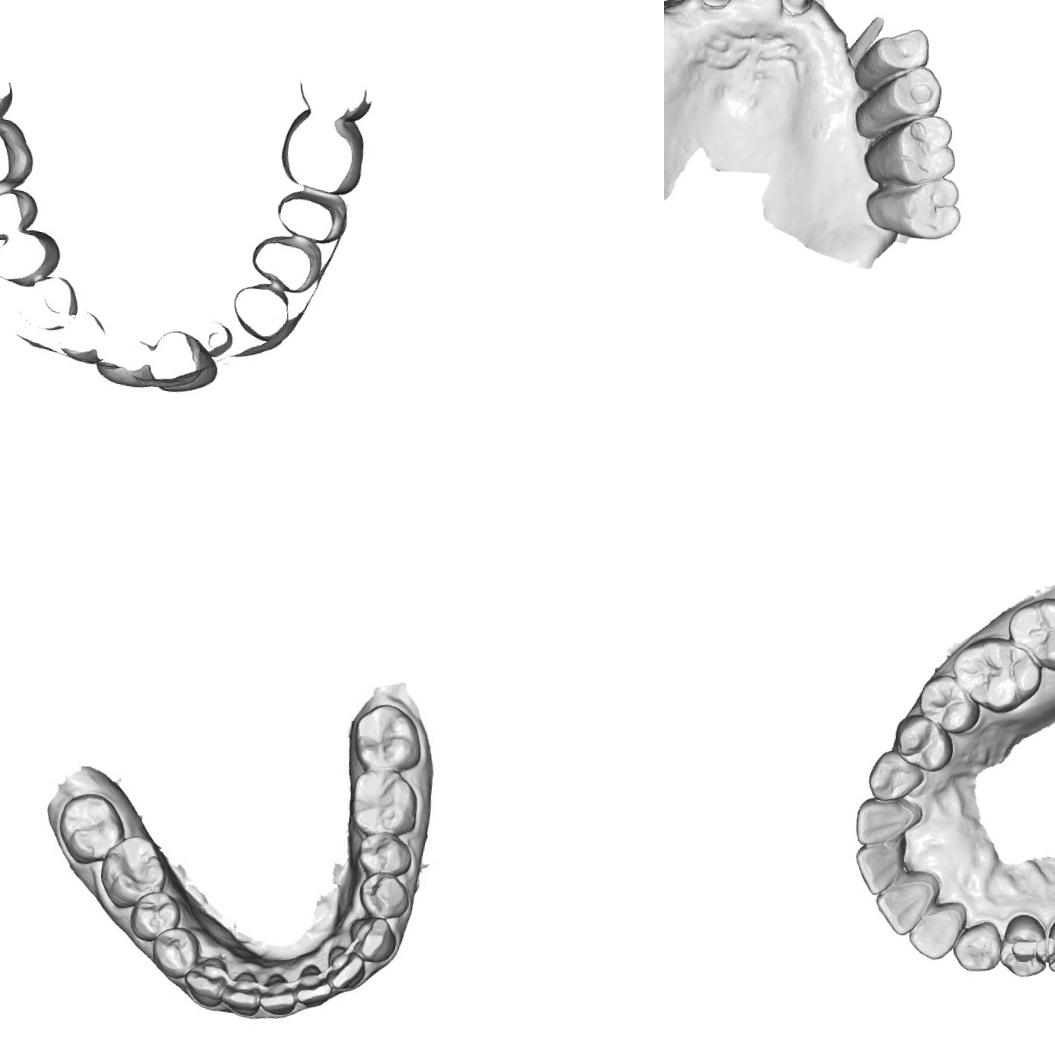canine: (948, 914, 1005, 976), (866, 748, 928, 805), (344, 912, 398, 964), (183, 958, 231, 1006)
crown: (844, 13, 886, 72), (778, 0, 816, 17), (694, 0, 738, 10)
incisor: (870, 867, 941, 939), (904, 896, 975, 964), (852, 794, 924, 852), (850, 836, 909, 899), (224, 974, 264, 1020), (295, 967, 336, 1010), (325, 950, 362, 988), (266, 975, 297, 1011)
inlay: (1005, 926, 1047, 972), (1043, 930, 1055, 974)
molar: (946, 632, 1046, 718), (860, 108, 960, 191), (863, 170, 964, 244), (99, 834, 169, 905), (1002, 592, 1055, 676), (355, 704, 420, 770), (58, 790, 121, 858), (351, 770, 420, 832)
premolar: (852, 59, 945, 146), (852, 22, 932, 97), (914, 671, 984, 737), (890, 712, 956, 774), (359, 830, 413, 880), (363, 870, 414, 920), (150, 925, 199, 977), (134, 897, 176, 936)
